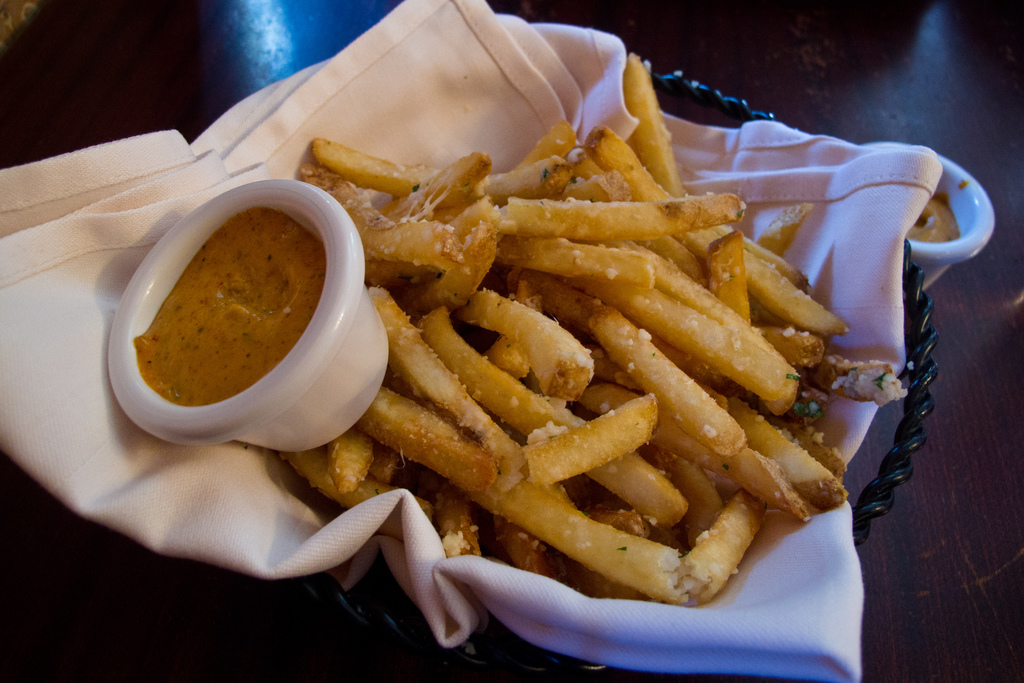French fries: (268, 44, 915, 613)
